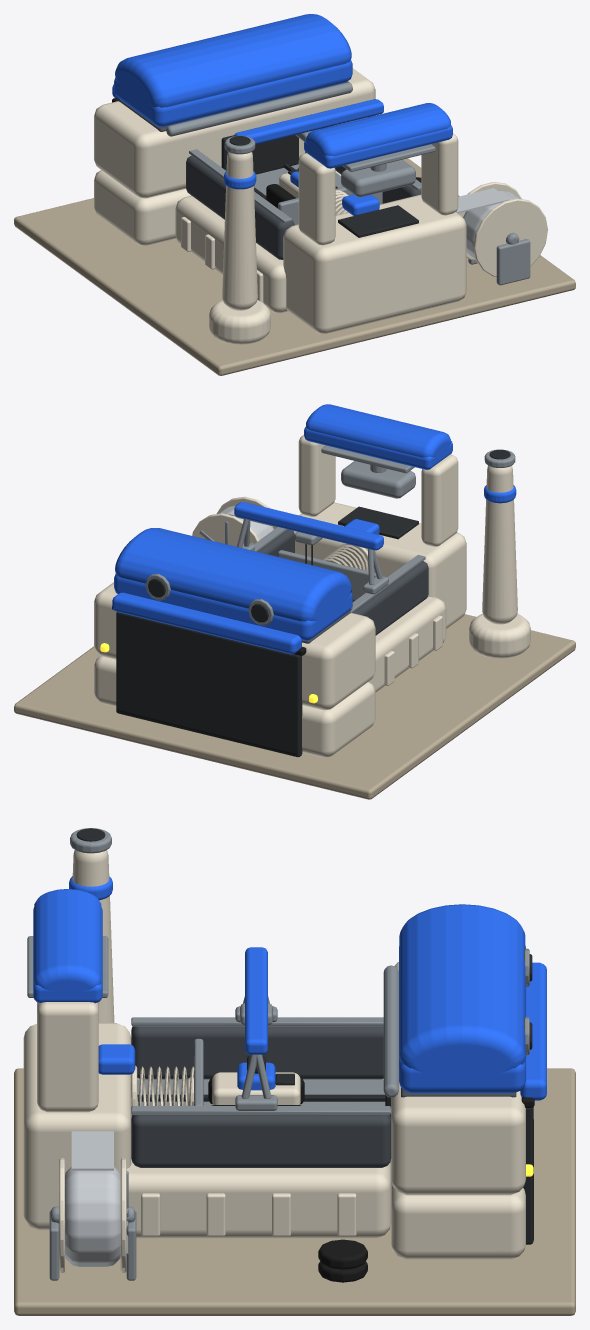
File: factory.glb
The picture shows the model from 3 angles, top to bottom: view 1: azimuth 30°, elevation 25°; view 2: azimuth 150°, elevation 25°; view 3: azimuth 270°, elevation 25°; orthographic projection. The views are drawn at different scales.
Visible parts, largest first — view 1: stage_1__M_CreamPlastic, stage_0__M_SugarPad, head__M_Team, stage_2__M_CreamPlastic, stage_3__M_Team, stage_3__M_CreamPlastic, spool__M_CreamPlastic, stage_2__M_SmokePlastic, stage_2__M_Dark, gantry__M_Team, head__M_SpringSteel, stage_1__M_SpringSteel (+7 smaller); view 2: stage_0__M_SugarPad, head__M_Team, door__M_Dark, stage_1__M_CreamPlastic, stage_2__M_CreamPlastic, stage_3__M_Team, stage_3__M_CreamPlastic, stage_2__M_SmokePlastic, gantry__M_Team, ram__M_SpringSteel, spool__M_CreamPlastic, gantry__M_SpringSteel (+7 smaller); view 3: stage_0__M_SugarPad, stage_1__M_CreamPlastic, head__M_Team, stage_2__M_SmokePlastic, stage_2__M_CreamPlastic, stage_3__M_Team, stage_3__M_CreamPlastic, spool__M_Foil, stage_2__M_SpringSteel, stage_1__M_SpringSteel, head__M_SpringSteel, gantry__M_Team (+12 smaller).
Boxes of the visible parts, <box> form: stage_1__M_CreamPlastic: <box>94,170,466,344</box>; stage_0__M_SugarPad: <box>14,158,575,375</box>; head__M_Team: <box>112,14,352,126</box>; stage_2__M_CreamPlastic: <box>94,68,375,310</box>; stage_3__M_Team: <box>224,103,452,189</box>; stage_3__M_CreamPlastic: <box>298,133,458,245</box>; spool__M_CreamPlastic: <box>458,182,547,276</box>; stage_2__M_SmokePlastic: <box>119,81,421,259</box>; stage_2__M_Dark: <box>221,135,418,237</box>; gantry__M_Team: <box>234,99,383,144</box>; head__M_SpringSteel: <box>166,82,352,136</box>; stage_1__M_SpringSteel: <box>255,164,530,285</box>; stage_0__M_SugarPad: <box>14,614,575,799</box>; head__M_Team: <box>112,528,352,654</box>; door__M_Dark: <box>116,612,302,757</box>; stage_1__M_CreamPlastic: <box>94,502,530,757</box>; stage_2__M_CreamPlastic: <box>94,465,517,710</box>; stage_3__M_Team: <box>304,404,516,503</box>; stage_3__M_CreamPlastic: <box>298,435,458,546</box>; stage_2__M_SmokePlastic: <box>257,529,428,643</box>; gantry__M_Team: <box>234,502,383,550</box>; ram__M_SpringSteel: <box>341,461,415,498</box>; spool__M_CreamPlastic: <box>192,496,276,546</box>; gantry__M_SpringSteel: <box>237,518,388,594</box>; stage_0__M_SugarPad: <box>14,1068,575,1315</box>; stage_1__M_CreamPlastic: <box>23,1023,525,1259</box>; head__M_Team: <box>399,904,546,1100</box>; stage_2__M_SmokePlastic: <box>131,1026,516,1167</box>; stage_2__M_CreamPlastic: <box>72,850,525,1195</box>; stage_3__M_Team: <box>33,876,112,1003</box>; stage_3__M_CreamPlastic: <box>37,1002,98,1112</box>; spool__M_Foil: <box>65,1166,120,1266</box>; stage_2__M_SpringSteel: <box>131,1017,391,1114</box>; stage_1__M_SpringSteel: <box>49,1079,385,1280</box>; head__M_SpringSteel: <box>383,948,529,1097</box>; gantry__M_Team: <box>245,947,267,1054</box>.
Bounding box in the file's own units: 2.92 × 1.6 × 2.92.
